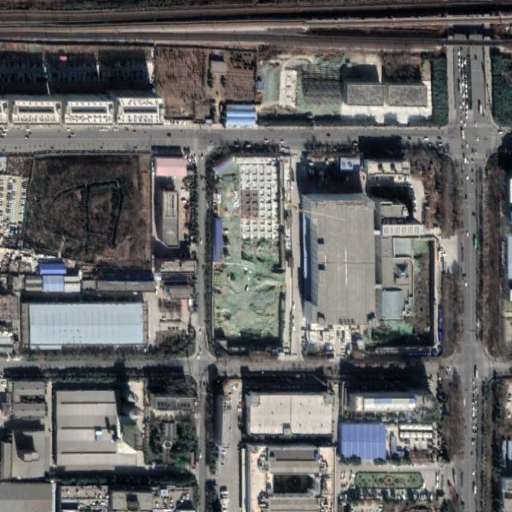cw: (214, 174, 286, 355)
